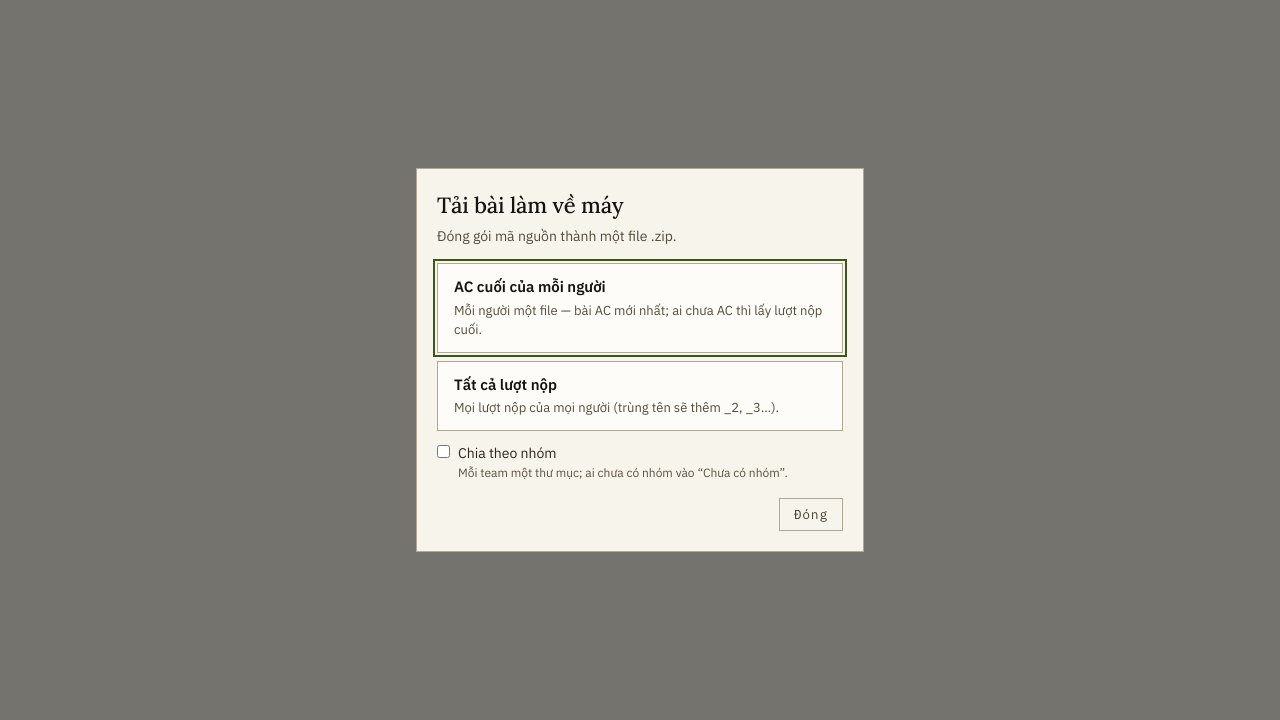
Test case: DownloadDialog › lỗi từ server thì hiện thông báo, không đóng
Step 1. Click the button "AC cuối của mỗi người" → point(640, 308), box [437,263,843,352]
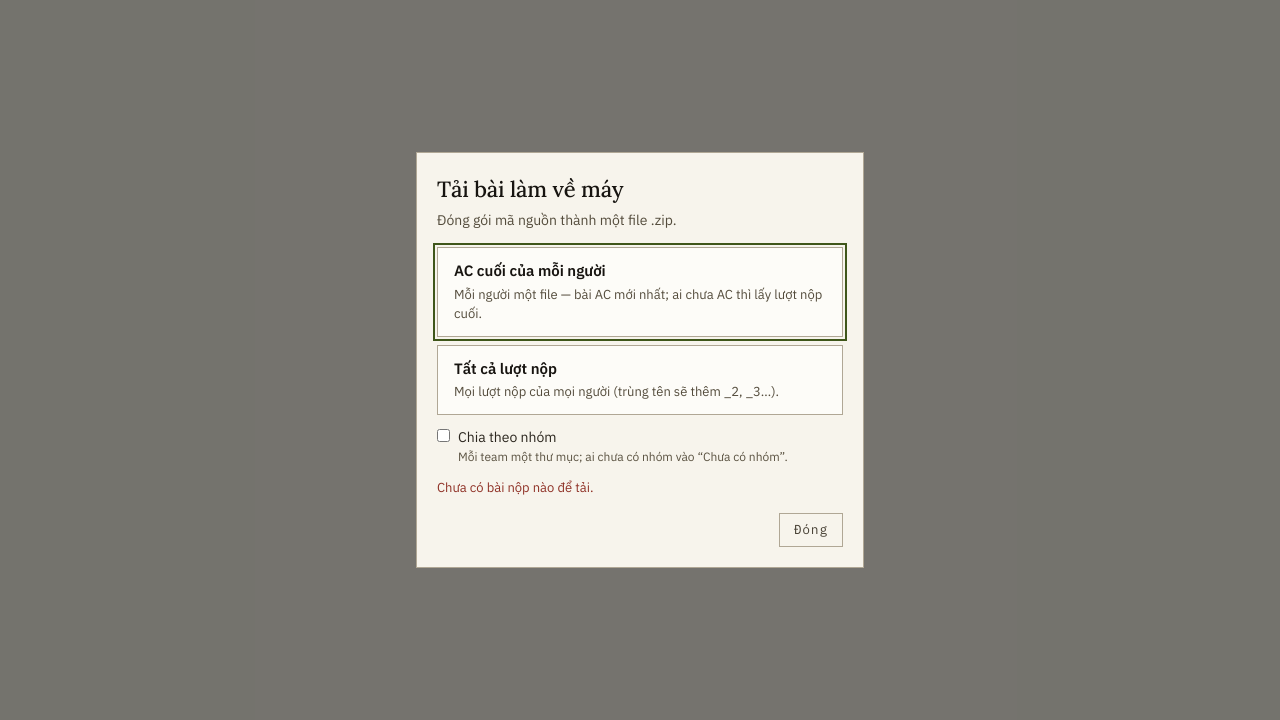
Check: the message reads "Chưa có bài nộp nào để tải.", box [437,479,594,496]
